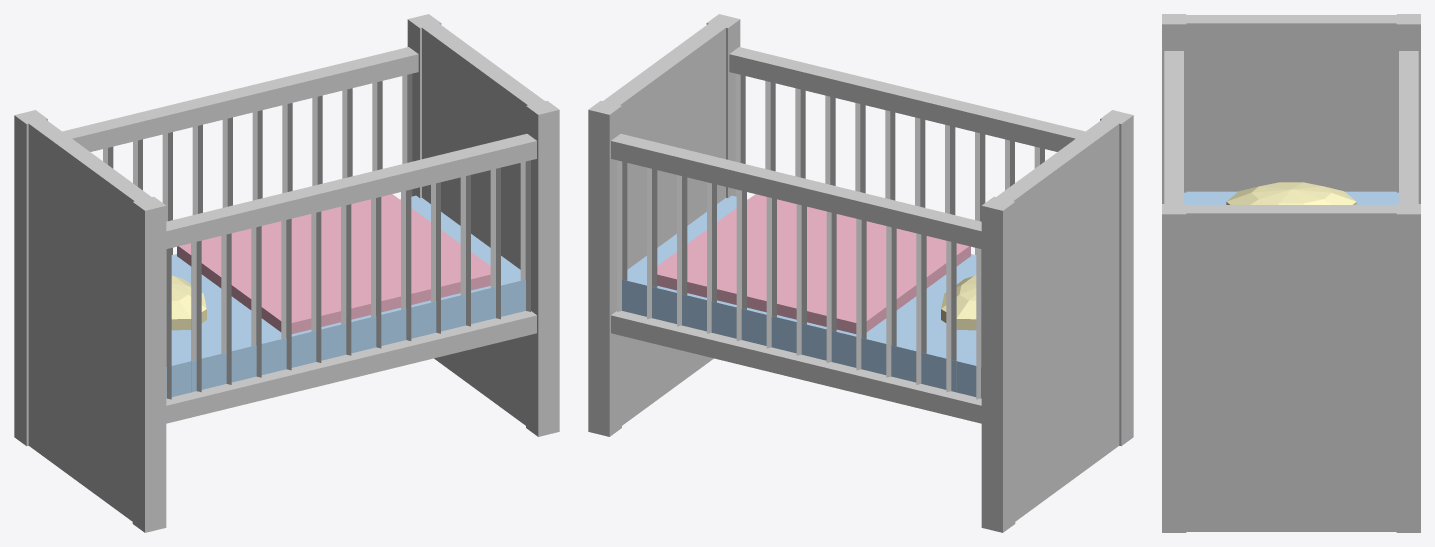
File: spjalsang.glb
3 views of the same model, side by side, from view 1: azimuth 30°, elevation 25°; view 2: azimuth 150°, elevation 25°; view 3: azimuth 270°, elevation 25° (orthographic).
Parts seen in each view (by area): view 1: spjalsang; view 2: spjalsang; view 3: spjalsang.
Part boxes in pixels (left/top/right/bottom): spjalsang: left=14, top=14, right=559, bottom=532; spjalsang: left=588, top=14, right=1133, bottom=532; spjalsang: left=1162, top=14, right=1420, bottom=532.
Bounding box in the file's own units: 0.97 × 0.72 × 0.53.
